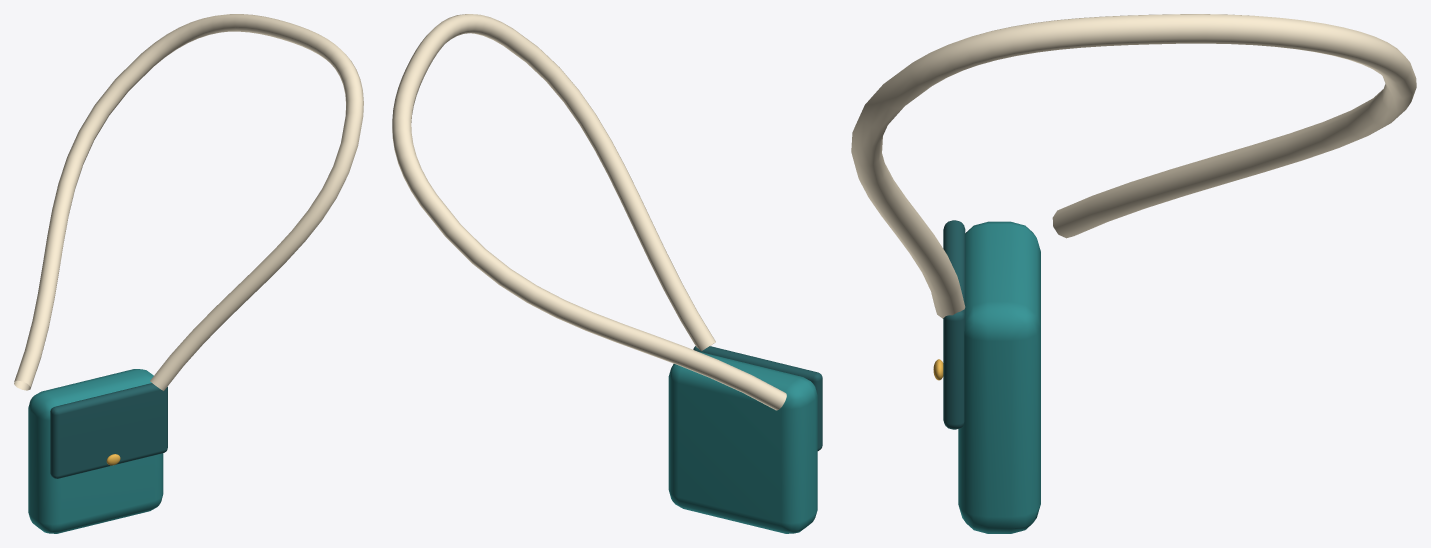
Rendered from NeighborCrossbodyBag.fbx.
3 views of the same model, side by side, from view 1: azimuth 30°, elevation 25°; view 2: azimuth 150°, elevation 25°; view 3: azimuth 270°, elevation 25° (orthographic). The views are drawn at different scales.
Visible parts, largest first — view 1: WovenBagStrap, CrossbodyBag, FoldedBagFlap; view 2: CrossbodyBag, WovenBagStrap, FoldedBagFlap; view 3: WovenBagStrap, CrossbodyBag, FoldedBagFlap.
Part boxes in pixels (bbox=[...]): WovenBagStrap: bbox=[14, 14, 363, 390]; CrossbodyBag: bbox=[28, 369, 163, 533]; FoldedBagFlap: bbox=[50, 383, 167, 478]; CrossbodyBag: bbox=[668, 352, 817, 533]; WovenBagStrap: bbox=[392, 14, 786, 410]; FoldedBagFlap: bbox=[693, 346, 822, 450]; WovenBagStrap: bbox=[851, 14, 1416, 318]; CrossbodyBag: bbox=[958, 221, 1040, 533]; FoldedBagFlap: bbox=[943, 220, 965, 429].
Bounding box in the file's own units: 57.32 × 68.31 × 51.34.
